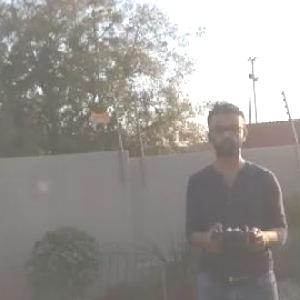follow: (177, 94, 290, 299)
